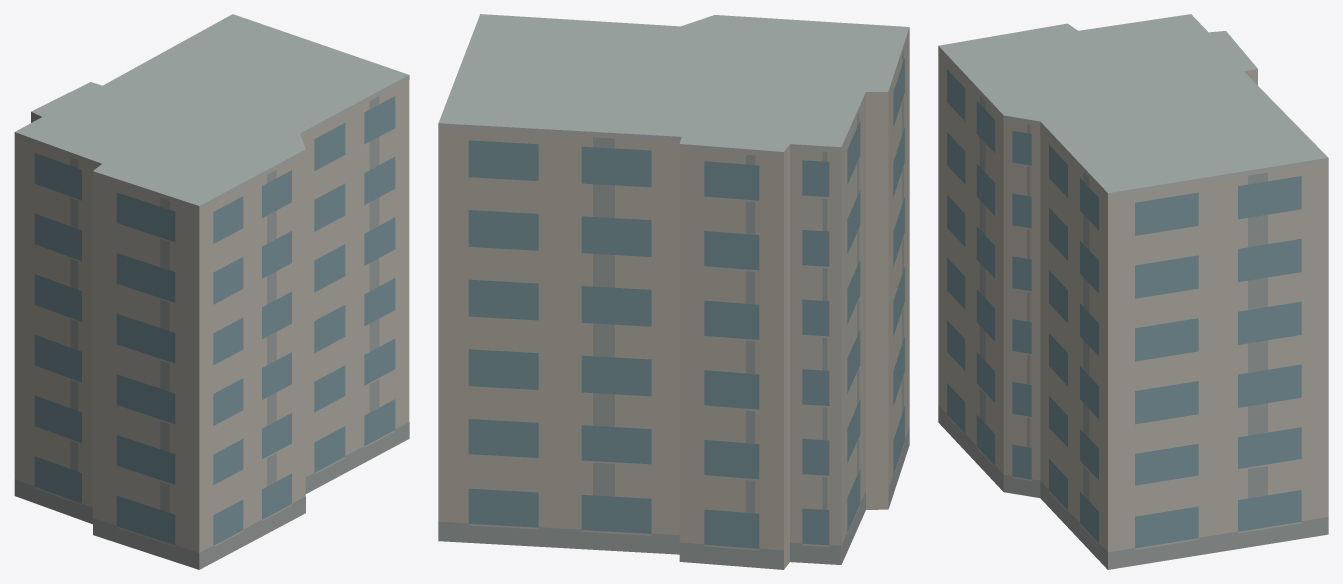
The model's file is survey-upis-32860470.glb.
3 views of the same model, side by side, from view 1: azimuth 30°, elevation 25°; view 2: azimuth 150°, elevation 25°; view 3: azimuth 270°, elevation 25° (orthographic). The views are drawn at different scales.
Parts seen in each view (by area): view 1: survey-upis-32860470.tmp; view 2: survey-upis-32860470.tmp; view 3: survey-upis-32860470.tmp.
Part boxes in pixels (<box>): survey-upis-32860470.tmp: <box>14,14,409,569</box>; survey-upis-32860470.tmp: <box>438,14,909,569</box>; survey-upis-32860470.tmp: <box>938,14,1328,569</box>.
Size of the model in its own units: 18.68 by 18.3 by 17.19.
